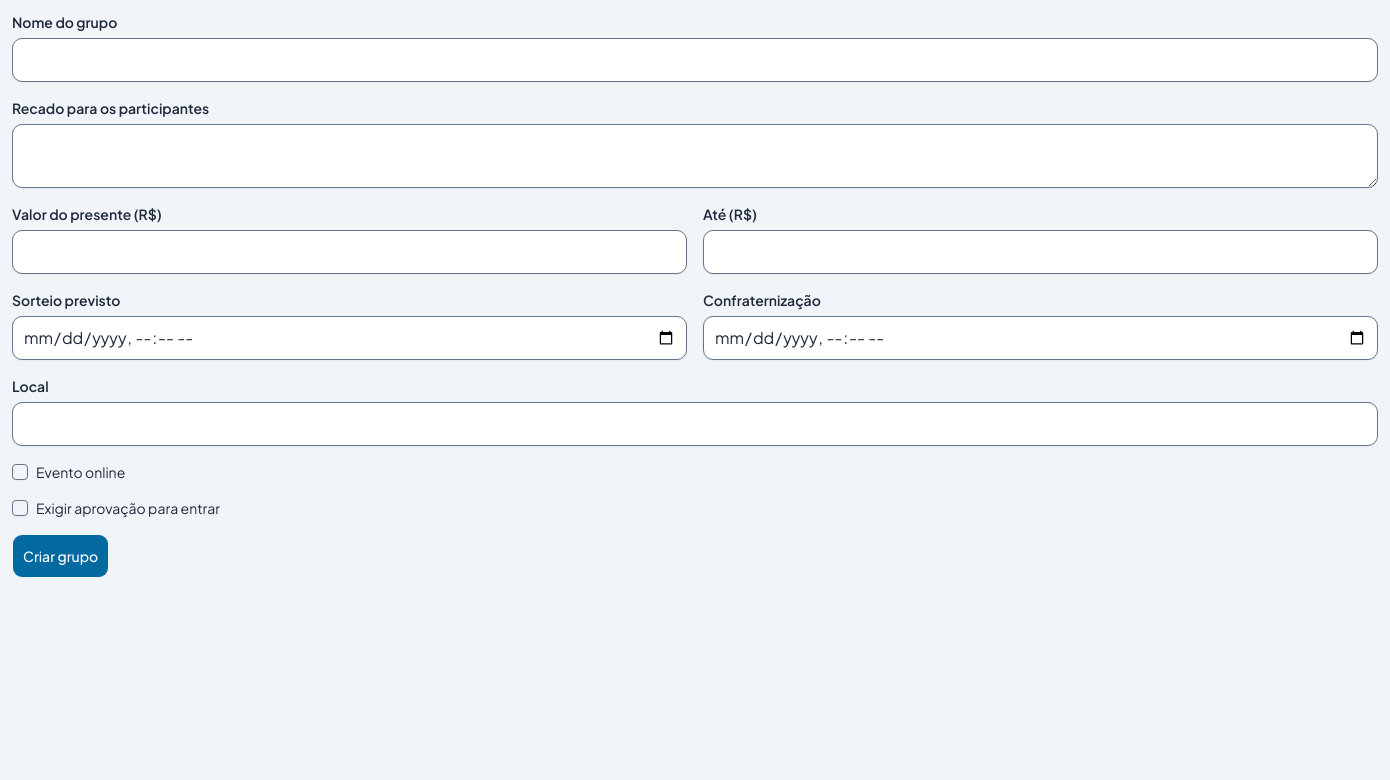
Scenario: GroupForm › desabilita o botão e mostra Salvando... durante o envio, na criação e na edição
Later steps or results of the test are not shown.
Type "Família" into the field labelled "Nome do grupo" at (695, 60), box [12,38,1378,82]
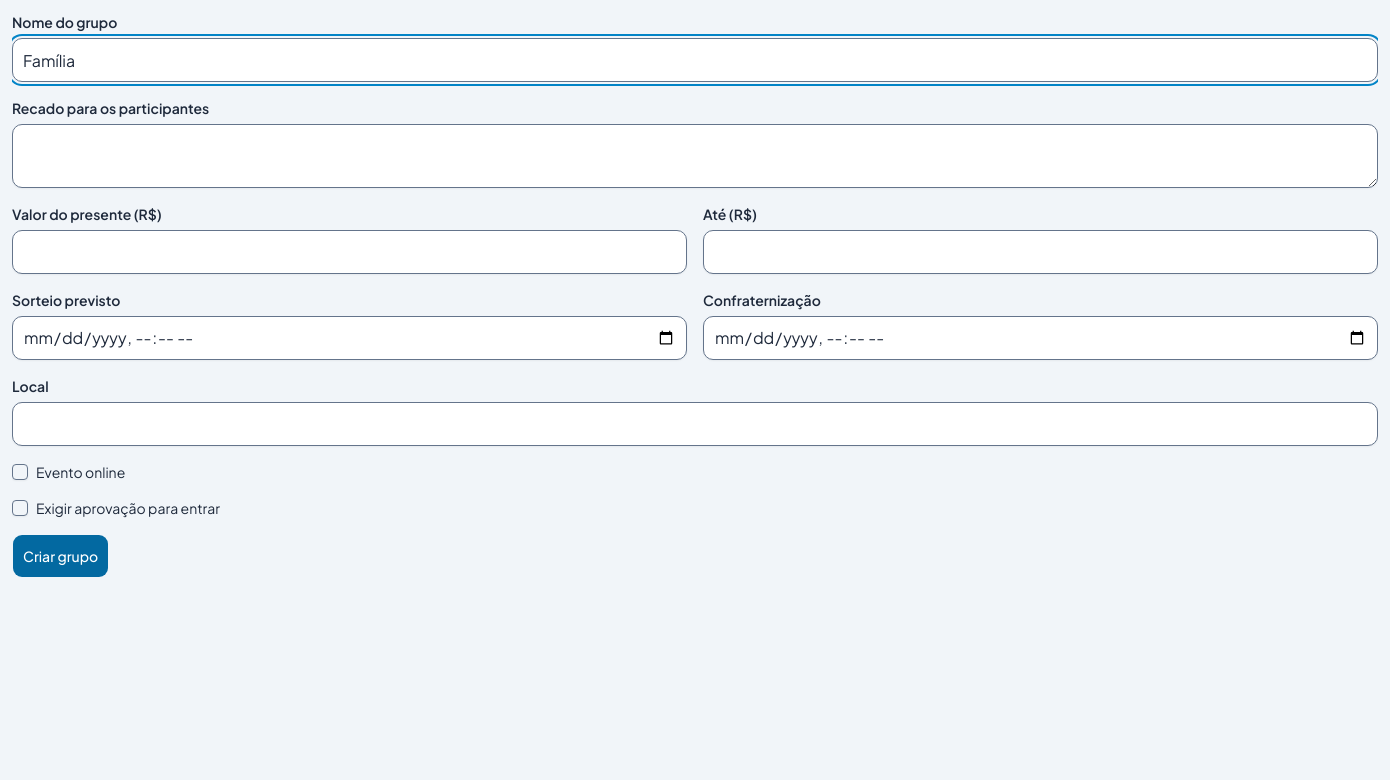
Click the button "Criar grupo" at (61, 556), box [12,534,109,578]
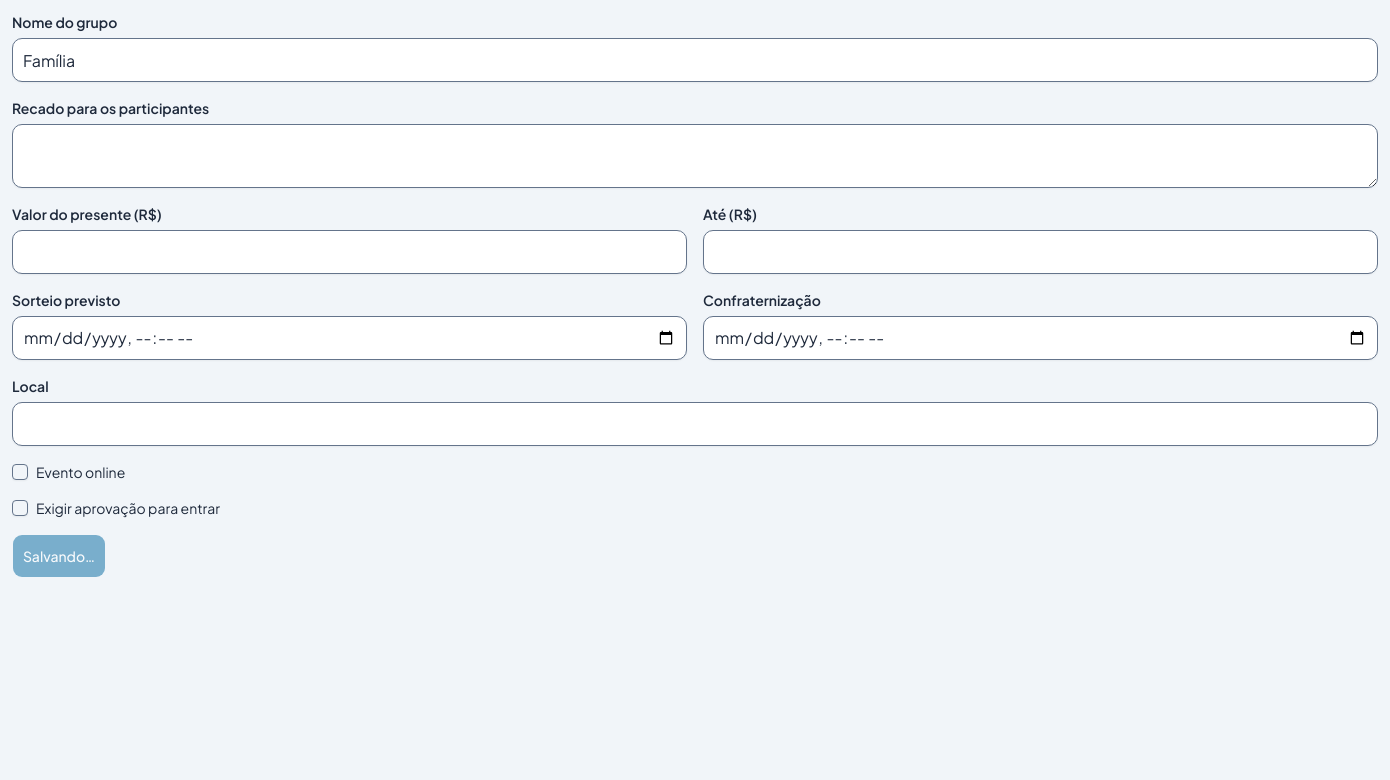
Now the button "Salvando…" is disabled, box [12,534,106,578]
Now the button "Criar grupo" is gone
